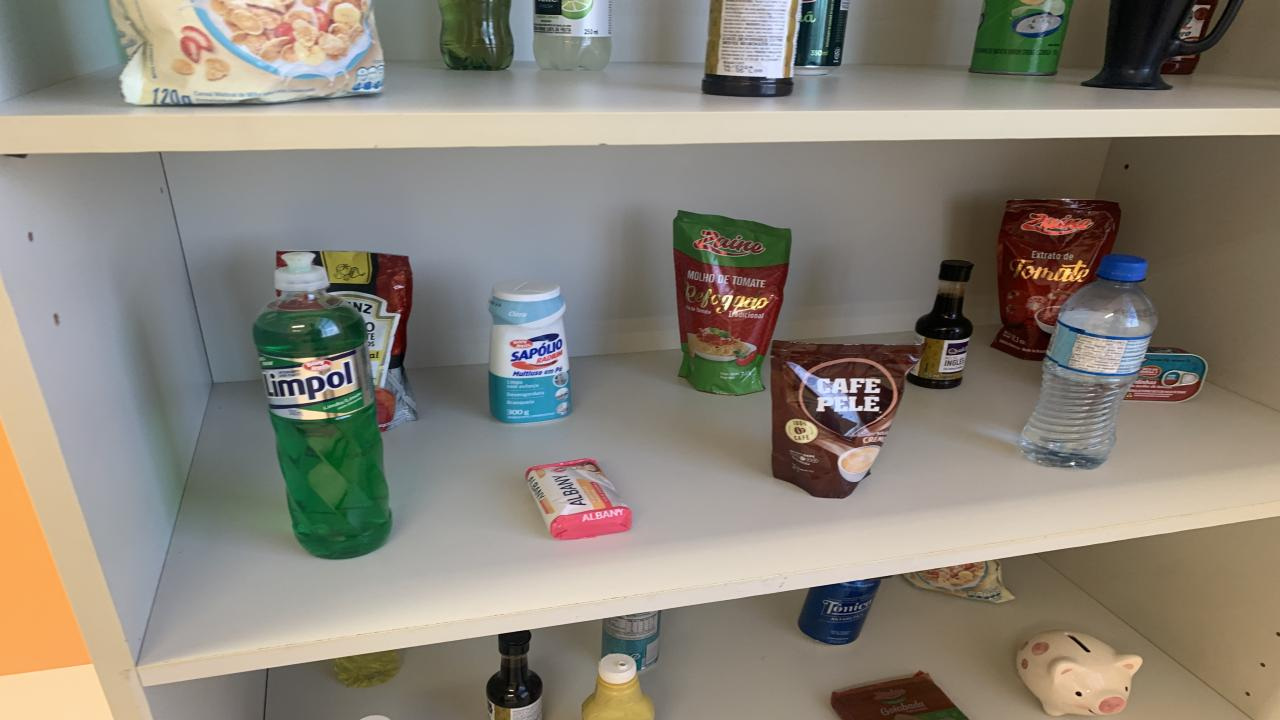Cleaner-Cleanup_Items: (490, 279, 572, 424)
Coffee-Pantry_Items: (770, 341, 925, 497)
Detergent-Cleanup_Items: (252, 251, 392, 559), (335, 651, 400, 688)
English_Sauce-Pantry_Items: (702, 0, 800, 98), (908, 261, 972, 388), (488, 630, 542, 720)
Flakes-Snacks: (110, 0, 382, 105), (905, 561, 1015, 604)
Guarana-Drinks: (438, 0, 515, 69)
Guarana_Can-Drinks: (795, 0, 850, 75)
Guava-Snacks: (830, 671, 968, 720)
Ketchup-Pantry_Items: (1178, 0, 1218, 41), (1160, 54, 1200, 75)
Mustard-Pantry_Items: (582, 652, 655, 720)
Pig_Safe-Miscellaneous: (1018, 630, 1142, 716)
Pringles-Snacks: (970, 0, 1072, 75)
Soap-Cleanup_Items: (525, 459, 632, 538)
Soda-Drinks: (532, 0, 612, 71)
Tea-Drinks: (600, 611, 660, 671)
Tomato_Sauce-Pantry_Items: (672, 212, 790, 396), (992, 199, 1120, 360), (315, 251, 418, 431)
Tonic-Drinks: (798, 578, 882, 645)
Tuna_Can-Pantry_Items: (1125, 347, 1208, 401)
Water_Bottle-Drinks: (1020, 255, 1158, 469)
